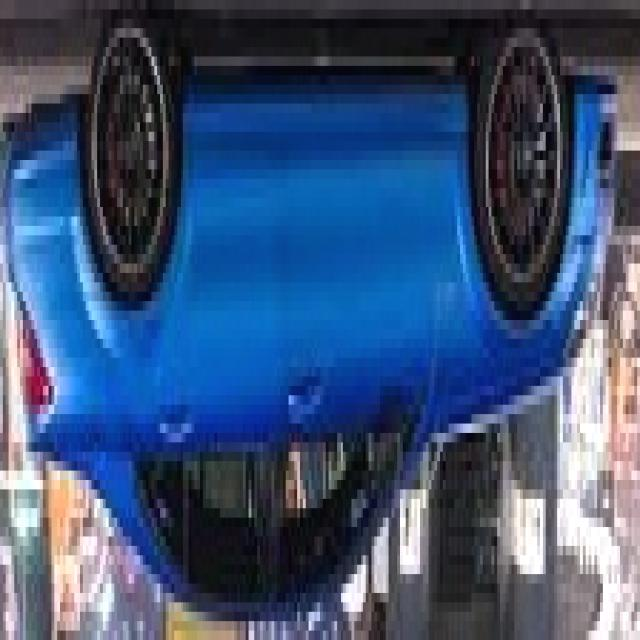blue: (6, 0, 637, 640)
